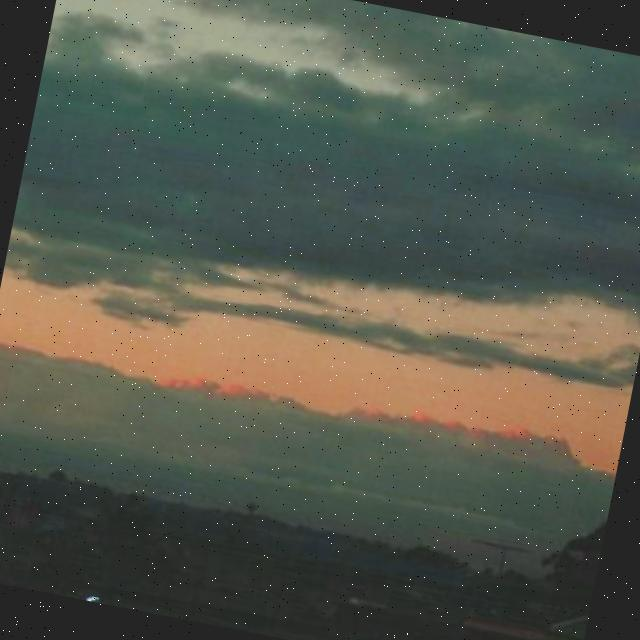Sc: (1, 1, 640, 418)
